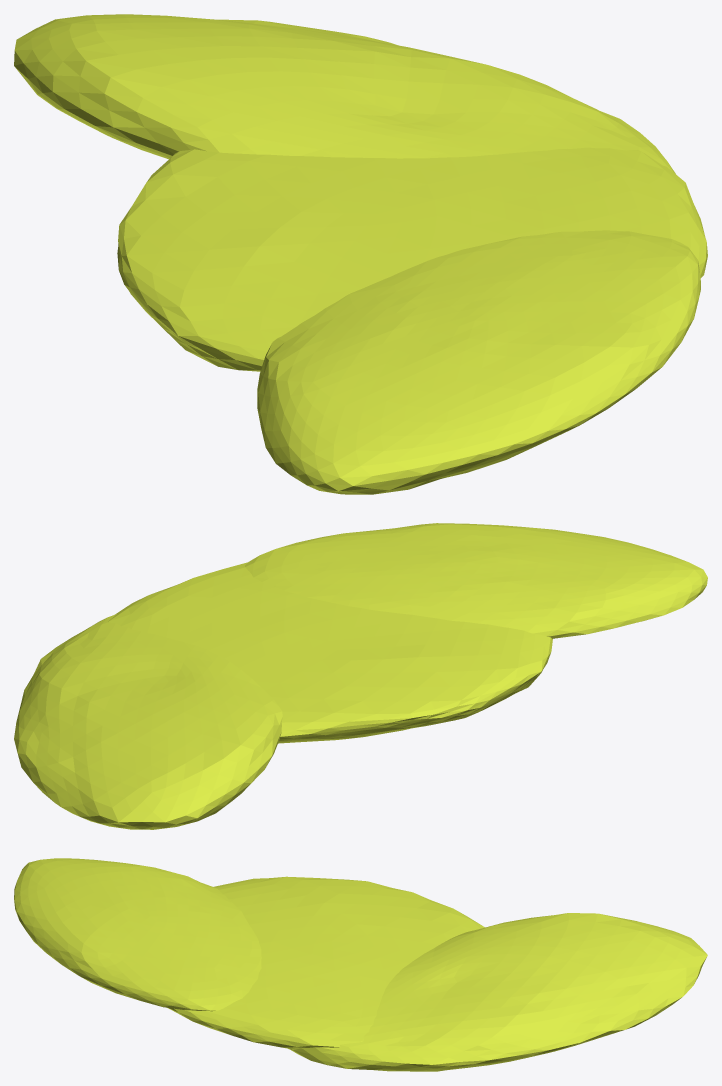
File: Sand.fbx
3 views of the same model, one above another, from view 1: azimuth 30°, elevation 25°; view 2: azimuth 150°, elevation 25°; view 3: azimuth 270°, elevation 25° (orthographic). The views are drawn at different scales.
Visible parts, largest first — view 1: Icosphere.001; view 2: Icosphere.001; view 3: Icosphere.001.
Part boxes in pixels (x1,y1,x2,y2): Icosphere.001: (14,14,707,494); Icosphere.001: (14,523,707,829); Icosphere.001: (14,858,707,1071).
Bounding box in the file's own units: 28795 × 4015 × 45123.
